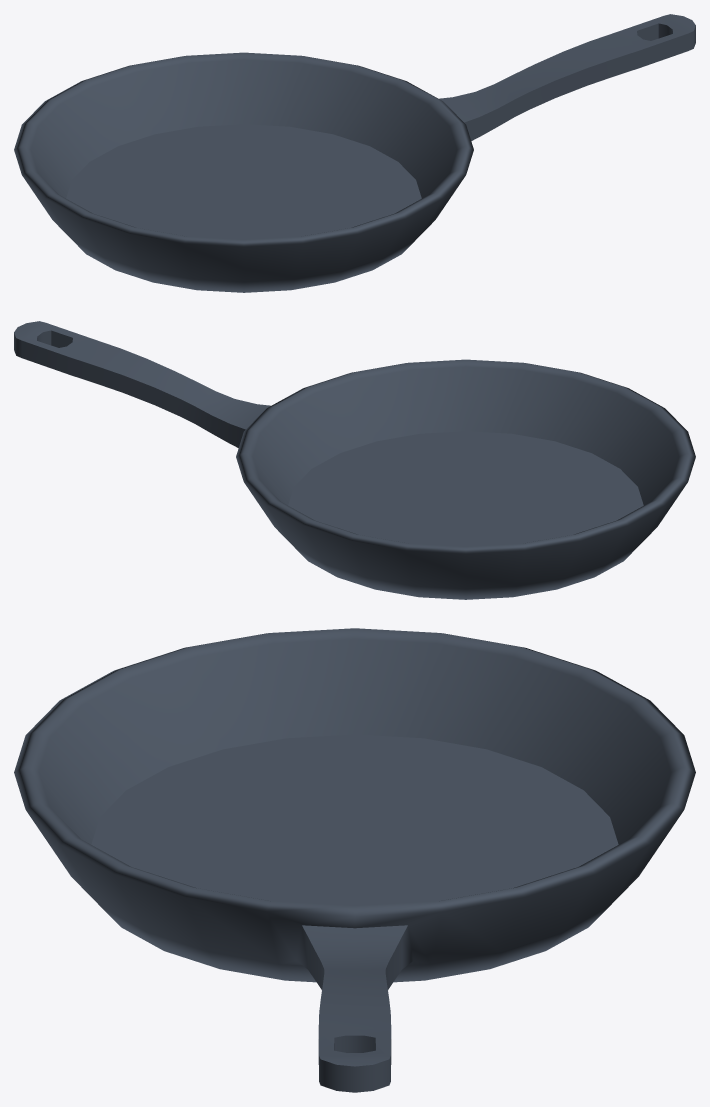
File: Pan.fbx
3 views of the same model, one above another, from view 1: azimuth 30°, elevation 25°; view 2: azimuth 150°, elevation 25°; view 3: azimuth 270°, elevation 25° (orthographic). The views are drawn at different scales.
Visible parts, largest first — view 1: Pan; view 2: Pan; view 3: Pan.
Boxes of the visible parts, box(x1,y1,x2,y2) form: Pan: box(14, 14, 695, 292); Pan: box(14, 321, 695, 599); Pan: box(14, 628, 695, 1092).
Bounding box in the file's own units: 71.63 × 9.14 × 44.08.
